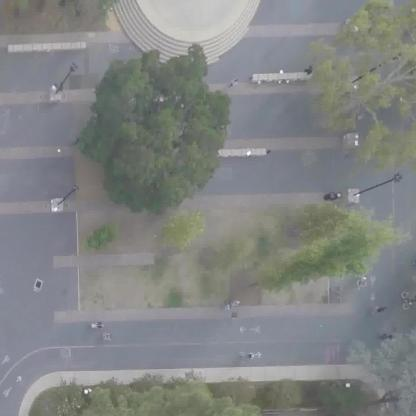Bicyclist: (370, 300, 389, 322), (234, 350, 272, 361), (380, 328, 401, 347), (400, 287, 412, 314), (100, 324, 118, 342), (88, 315, 106, 332)
Pedestrian: (353, 274, 380, 296), (221, 74, 246, 96), (220, 296, 244, 315), (47, 76, 61, 98), (300, 59, 314, 77)
